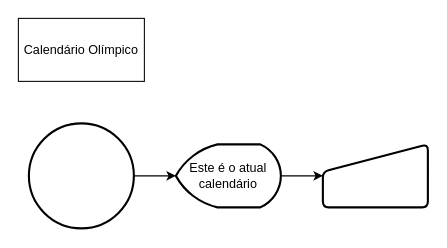
Image size: 447x248. Some labels were removed from this diagram. Each missing label, with the centre of its shape:
"char evento" belongs at (374,175).
"Inicio" belongs at (80,175).
